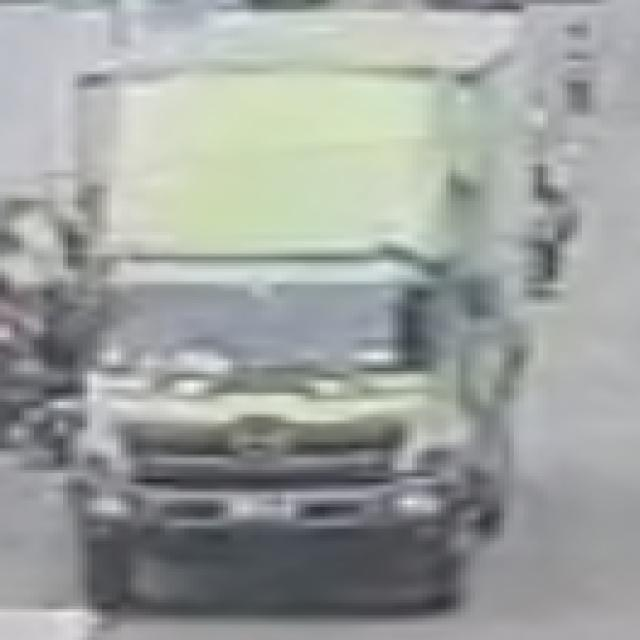truck: (59, 20, 550, 609)
